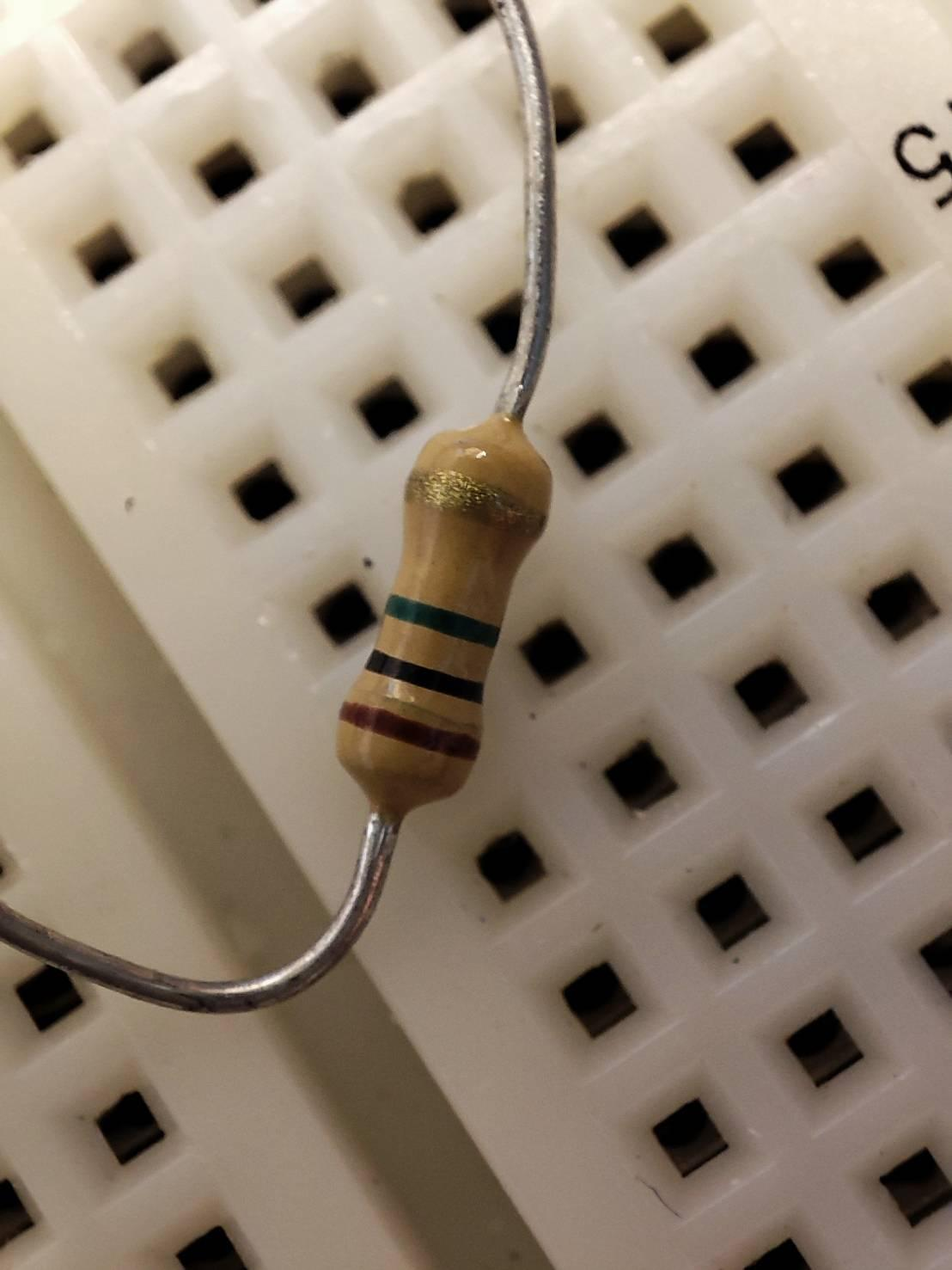resistor: (340, 414, 548, 805)
